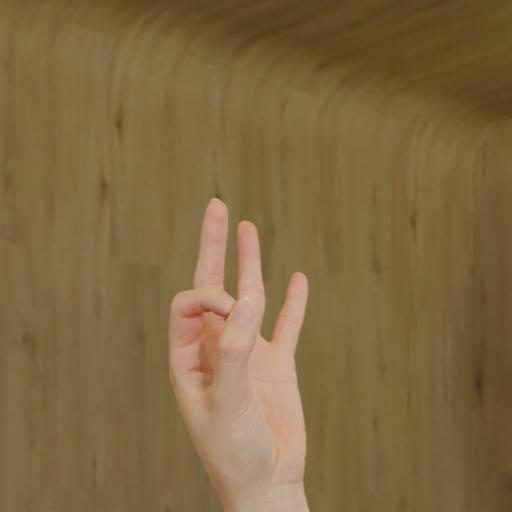F: (165, 192, 312, 486)
